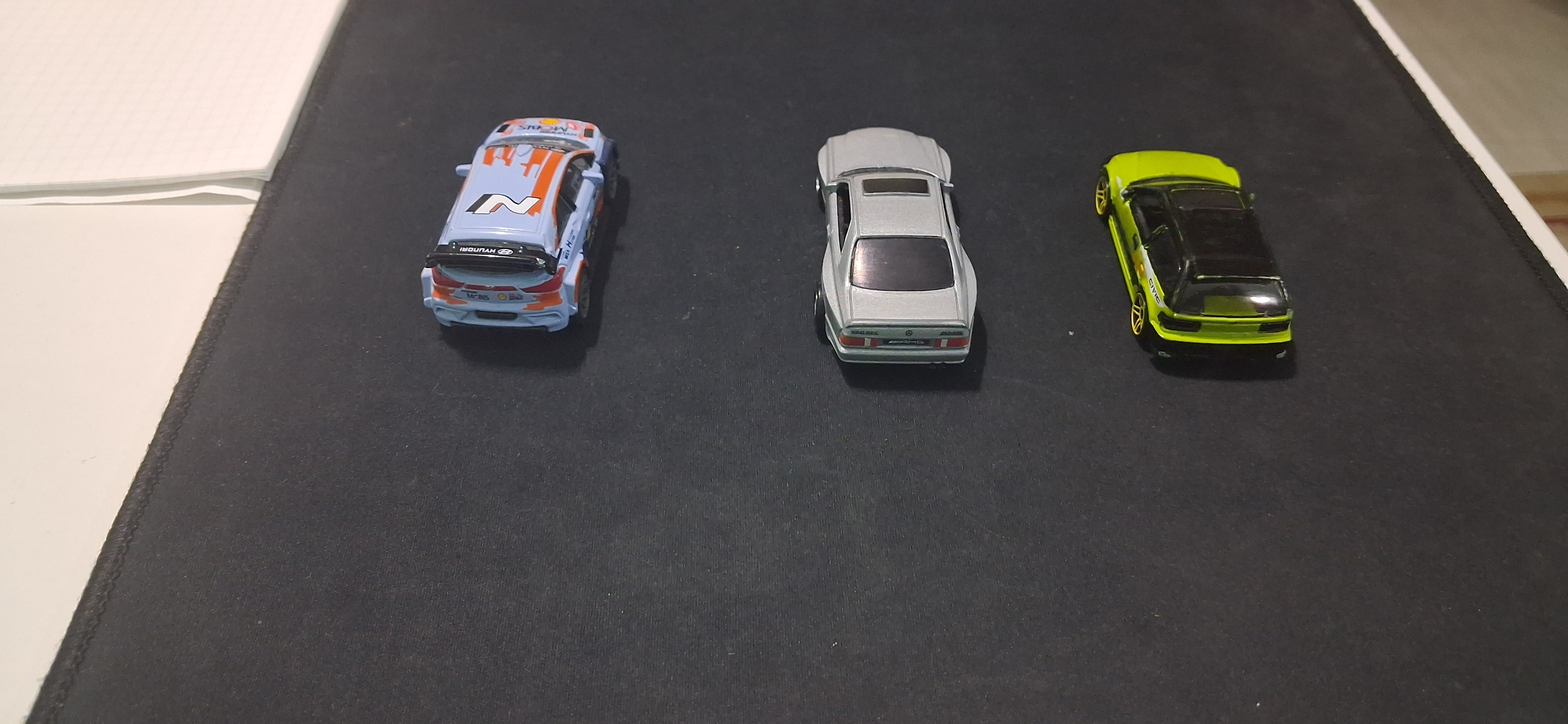Honda_Civic: (1083, 125, 1331, 419)
Hyundai_I20_WRC: (402, 101, 632, 409)
Mercedes_Benz_560_SEC_AMG: (786, 103, 986, 437)
